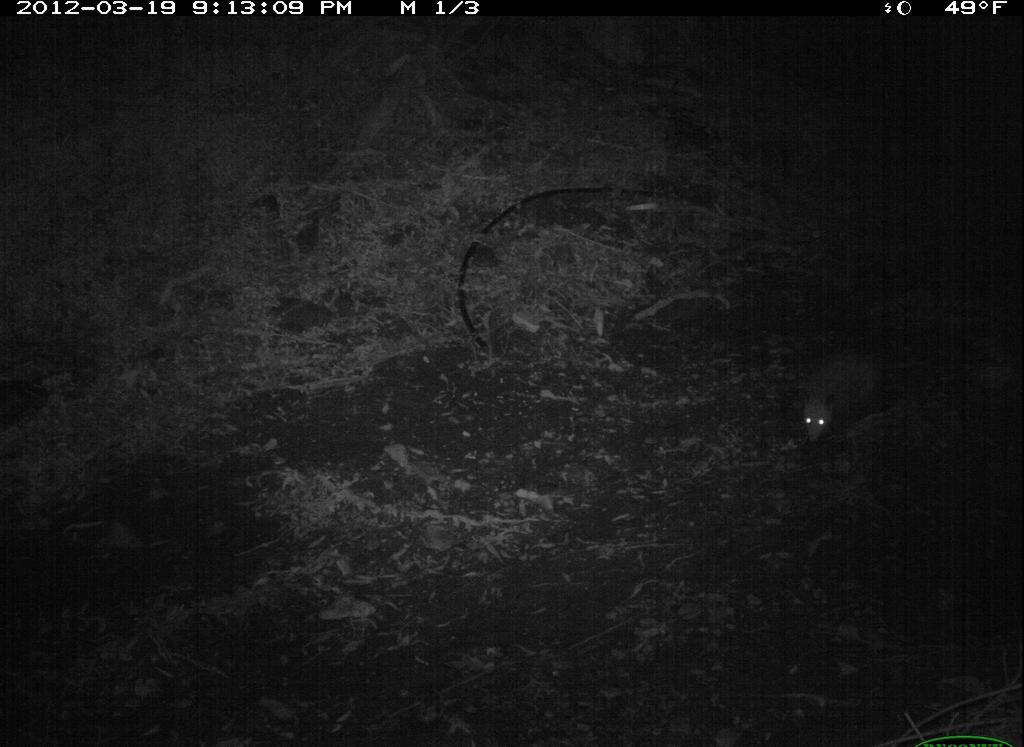opossum: (799, 346, 941, 460)
